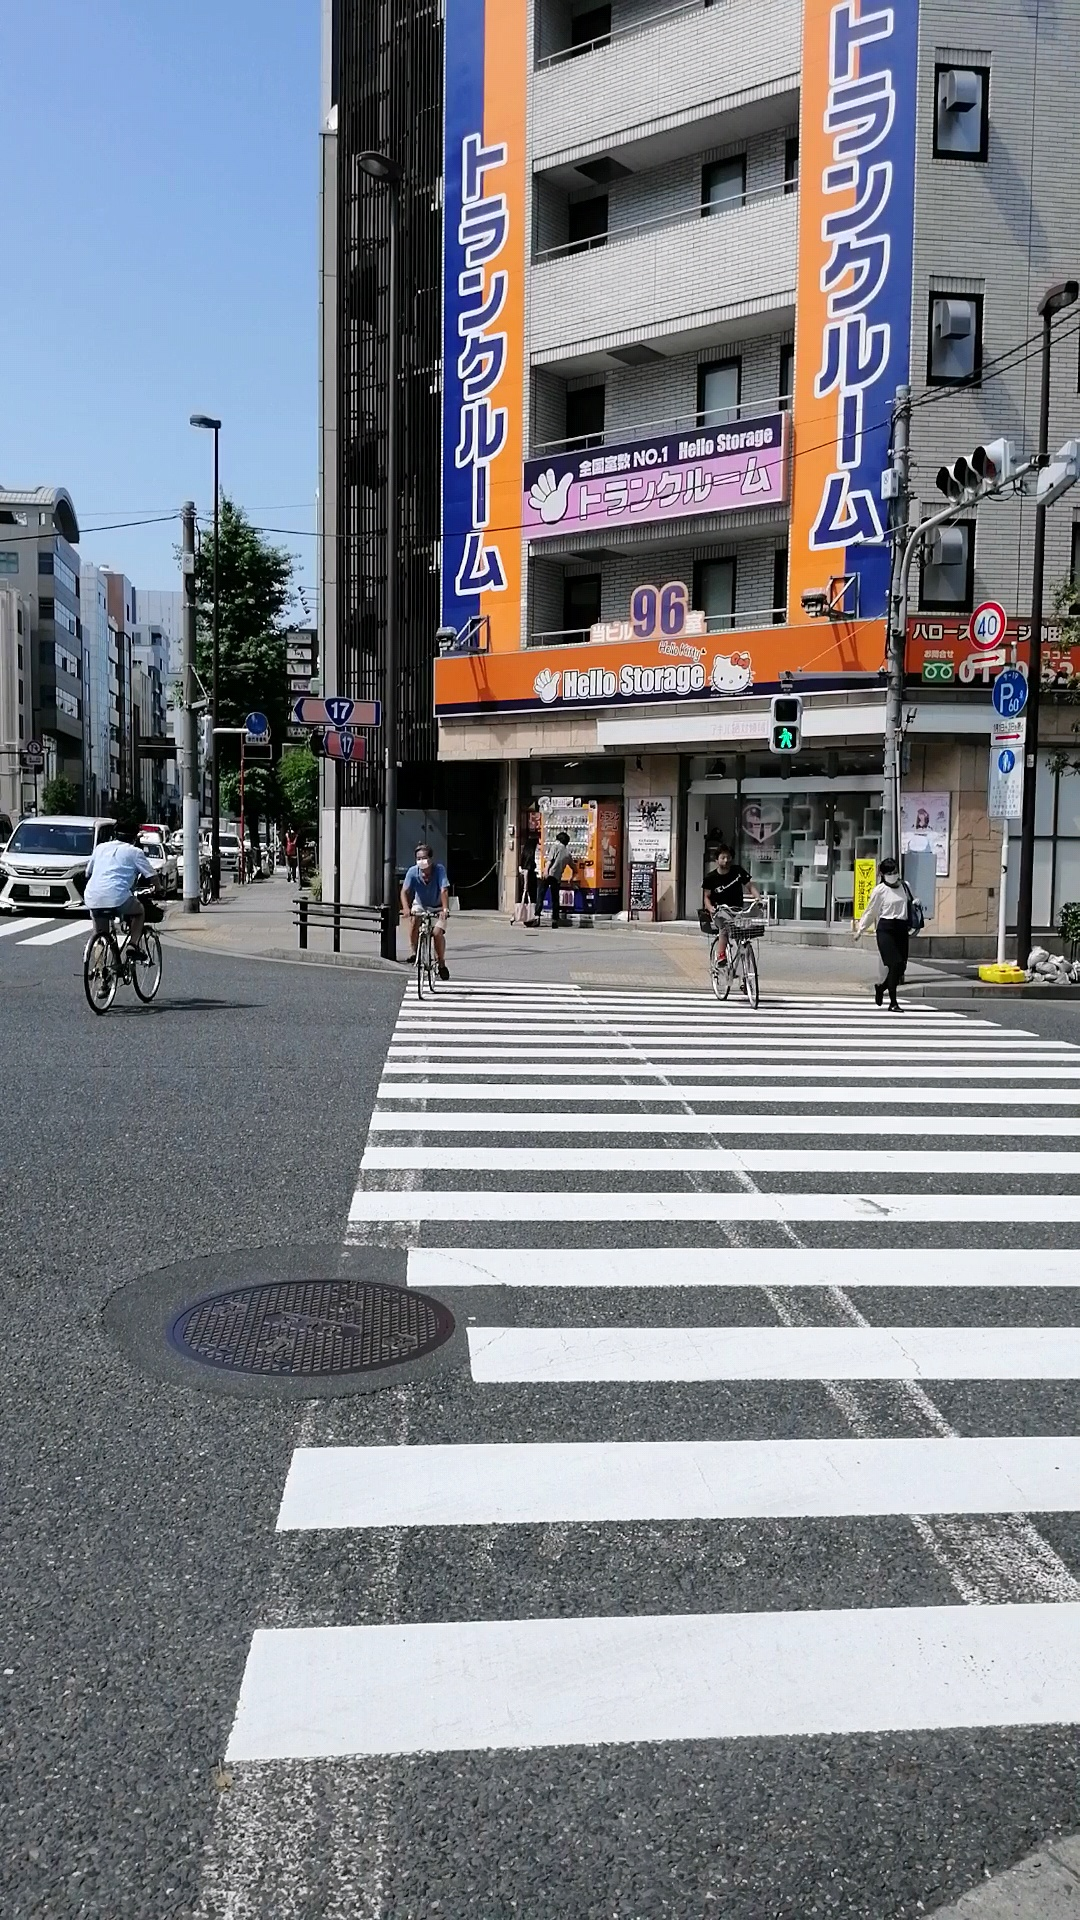green: (767, 694, 802, 754)
